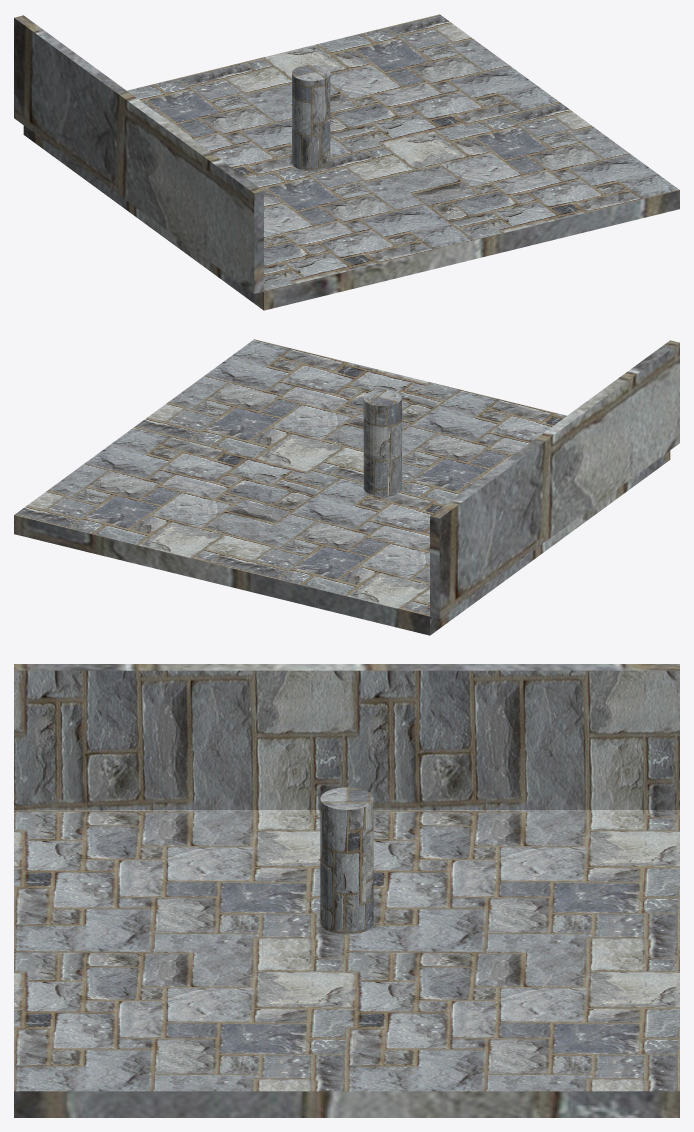
The model's file is ShadowTest2.obj.
3 renders of one model, top to bottom at view 1: azimuth 30°, elevation 25°; view 2: azimuth 150°, elevation 25°; view 3: azimuth 270°, elevation 25°, orthographic. The views are drawn at different scales.
Parts seen in each view (by area): view 1: Test_Light_Plane; view 2: Test_Light_Plane; view 3: Test_Light_Plane.
Part boxes in pixels (<box>): Test_Light_Plane: <box>14,14,679,310</box>; Test_Light_Plane: <box>14,339,679,635</box>; Test_Light_Plane: <box>14,664,679,1117</box>.
Size of the model in its own units: 10.23 by 2.75 by 10.
Materials: 1 (1 with a texture image).
